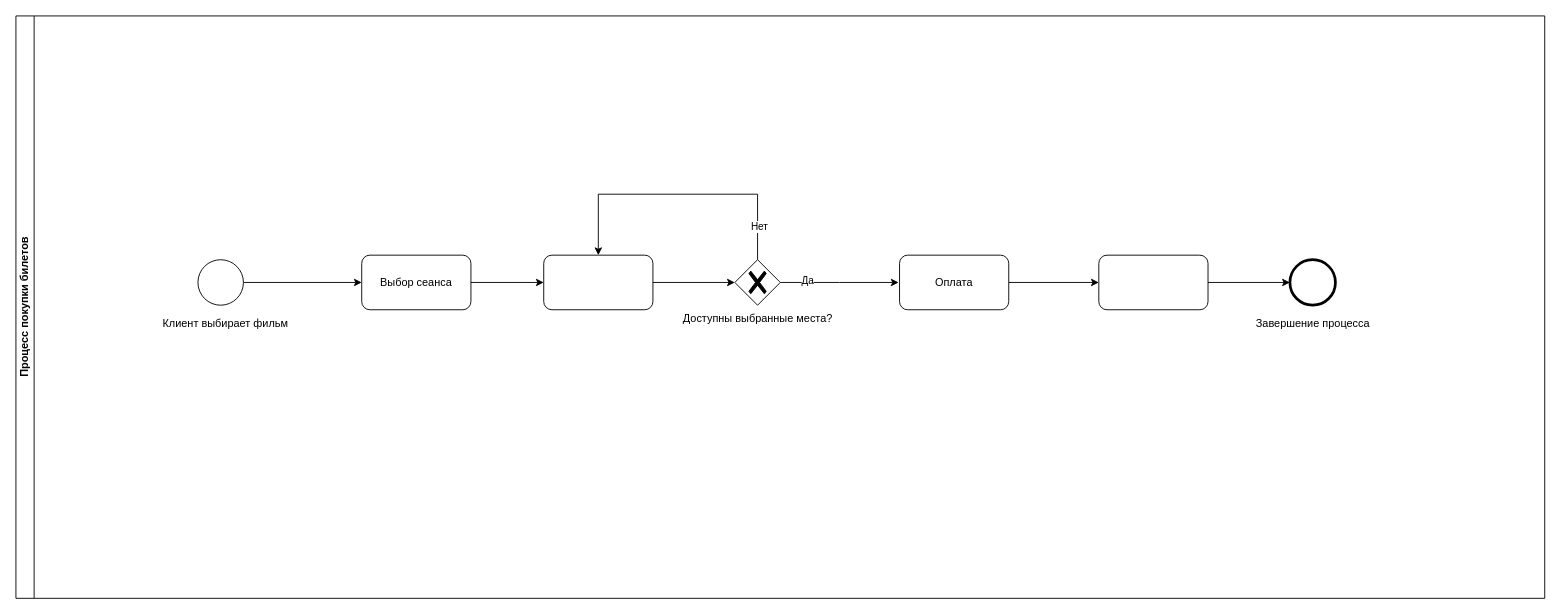
Image size: 1561x614. Some labels were removed from this diagram. The shapes that lost their labels are listed below. From the top down, each one's centre as x and y in pixels, then its label:
At pixel 598 282: "Выбор мест".
At pixel 1153 282: "Отправка подтверждения".
